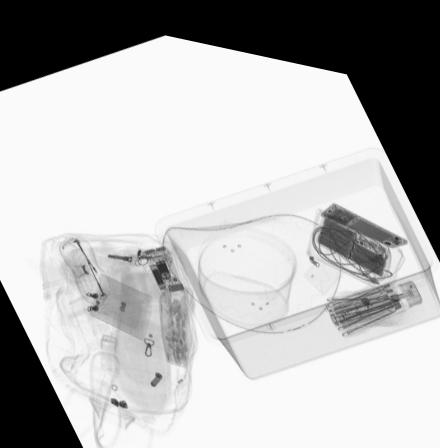Powerbank: (319, 186, 407, 232)
